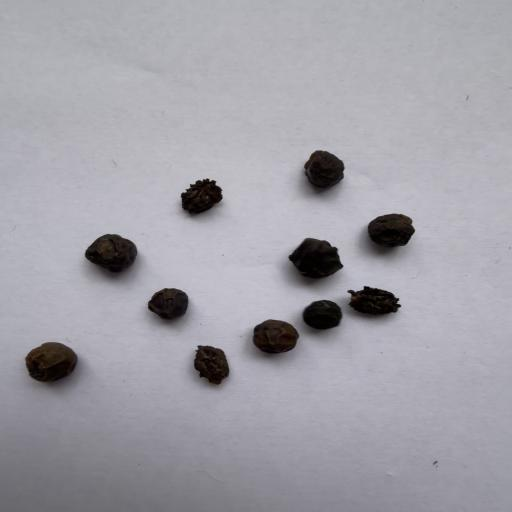Black_pepper: (74, 221, 154, 284), (284, 225, 358, 283), (361, 202, 427, 255), (299, 136, 365, 188), (13, 341, 88, 386), (240, 317, 308, 352), (150, 280, 204, 324), (310, 299, 340, 337)
papaya_seed: (162, 172, 235, 221), (338, 278, 406, 318), (196, 339, 242, 384)
